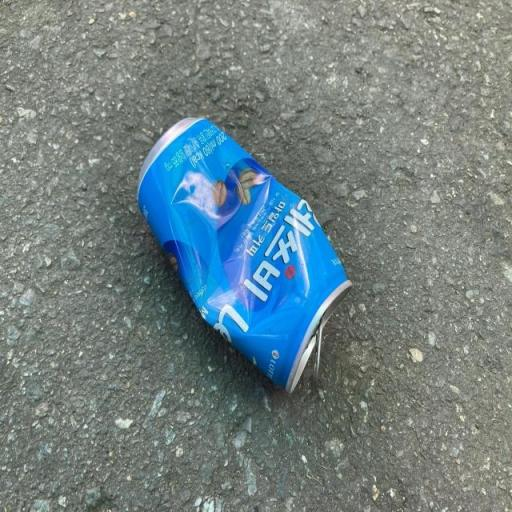metal: (122, 97, 418, 447)
